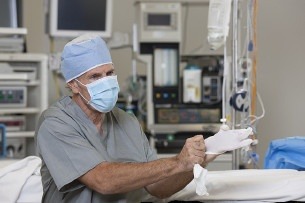Mask: (75, 68, 121, 113)
